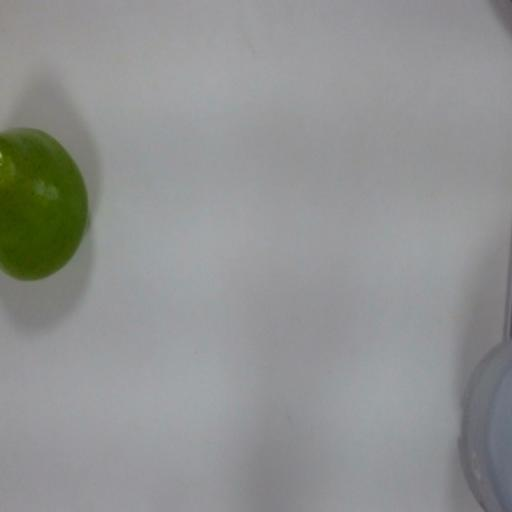Unripe: (1, 117, 101, 300)
